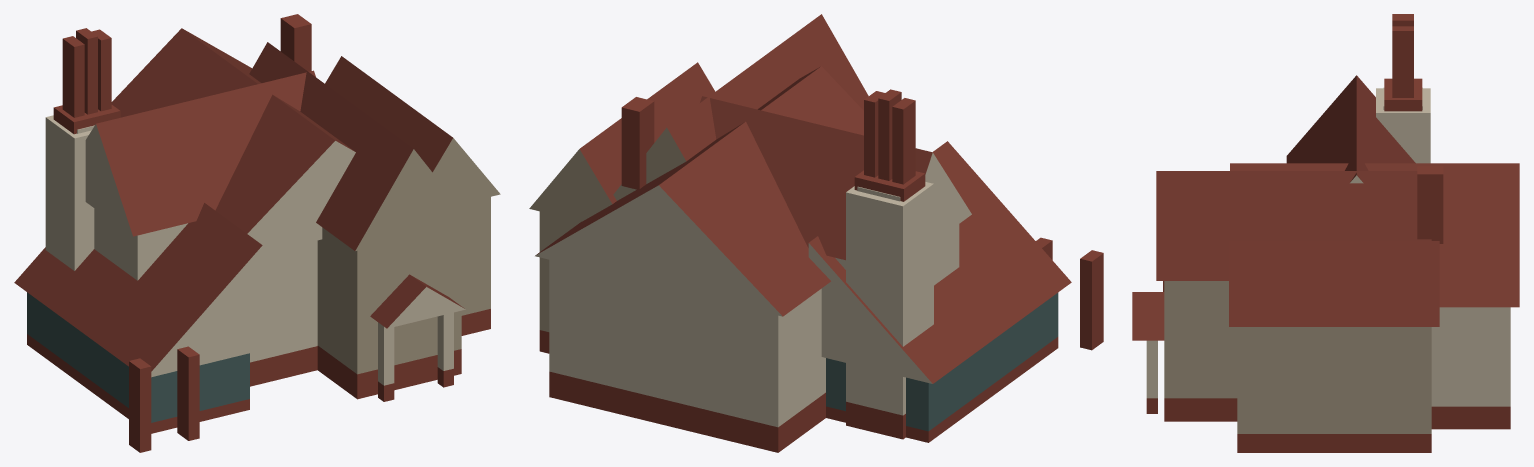
File: test-hudec-memorial-b-massing.glb
The picture shows the model from 3 angles, left to right: view 1: azimuth 30°, elevation 25°; view 2: azimuth 150°, elevation 25°; view 3: azimuth 270°, elevation 25°; orthographic projection. The views are drawn at different scales.
Parts seen in each view (by area): view 1: test-hudec-memorial-b-massing; view 2: test-hudec-memorial-b-massing; view 3: test-hudec-memorial-b-massing.
Boxes of the visible parts, box(x1,y1,x2,y2) form: test-hudec-memorial-b-massing: box(14, 14, 500, 452); test-hudec-memorial-b-massing: box(529, 14, 1103, 452); test-hudec-memorial-b-massing: box(1132, 14, 1519, 452).
Bounding box in the file's own units: 10.62 × 7.9 × 9.56.
